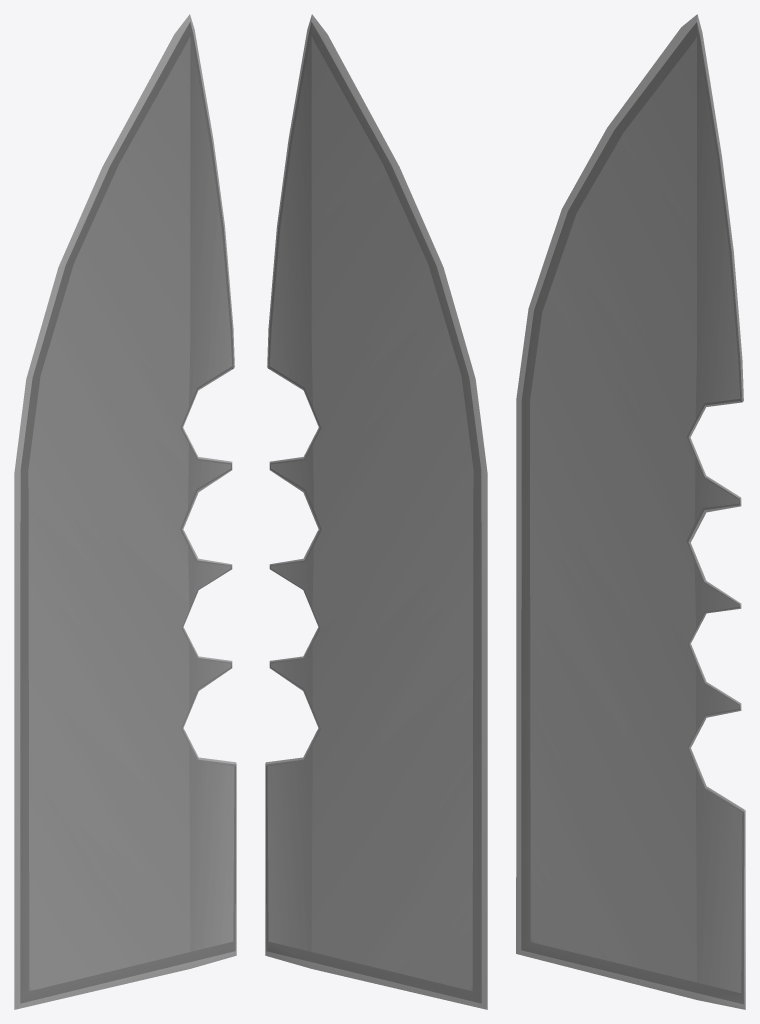
Rendered from stone_blade (1).glb.
The picture shows the model from 3 angles, left to right: view 1: azimuth 30°, elevation 25°; view 2: azimuth 150°, elevation 25°; view 3: azimuth 330°, elevation 25°; orthographic projection. The views are drawn at different scales.
Parts seen in each view (by area): view 1: stone_blade_unscratched.042; view 2: stone_blade_unscratched.042; view 3: stone_blade_unscratched.042.
Part boxes in pixels (x1,y1,x2,y2): stone_blade_unscratched.042: (14,14,236,1009); stone_blade_unscratched.042: (265,14,487,1009); stone_blade_unscratched.042: (516,14,745,1009).
Bounding box in the file's own units: 2.79 × 11.43 × 0.0204.
Materials: 1 (1 with a texture image).
